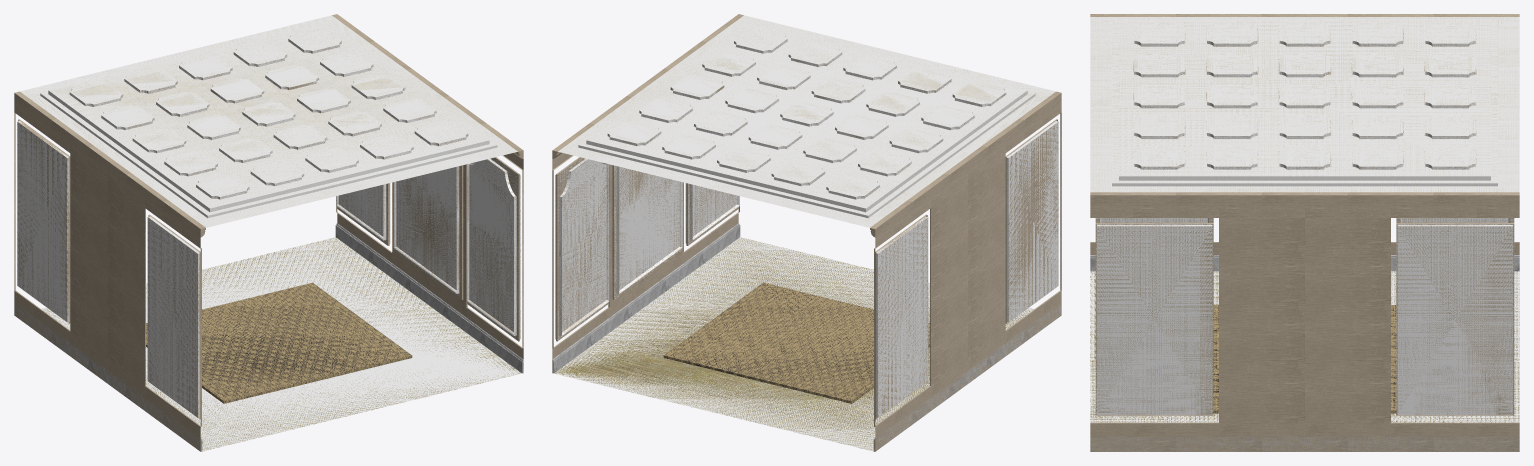
The picture shows the model from 3 angles, left to right: view 1: azimuth 30°, elevation 25°; view 2: azimuth 150°, elevation 25°; view 3: azimuth 270°, elevation 25°; orthographic projection. The views are drawn at different scales.
Parts seen in each view (by area): view 1: SketchUp.185, SketchUp.162, SketchUp.205, SketchUp.004, SketchUp.054, SketchUp.157, SketchUp.186, SketchUp.032, SketchUp.006, SketchUp.059, SketchUp.168, SketchUp.151 (+34 smaller); view 2: SketchUp.185, SketchUp.162, SketchUp.205, SketchUp.004, SketchUp.157, SketchUp.054, SketchUp.186, SketchUp.061, SketchUp.006, SketchUp.059, SketchUp.168, SketchUp.151 (+35 smaller); view 3: SketchUp.007, SketchUp.162, SketchUp.034, SketchUp.203, SketchUp.186, SketchUp.153, SketchUp.152, SketchUp.154, SketchUp.168, SketchUp.185, SketchUp.206, SketchUp.062 (+31 smaller).
Boxes of the visible parts, x1,y1,x2,y2 form: SketchUp.185: (41,237,521,451); SketchUp.162: (48,22,489,212); SketchUp.205: (146,282,412,403); SketchUp.004: (14,112,201,426); SketchUp.054: (147,216,199,417); SketchUp.157: (17,121,69,322); SketchUp.186: (20,15,517,227); SketchUp.032: (466,158,516,335); SketchUp.006: (393,166,459,293); SketchUp.059: (14,93,200,248); SketchUp.168: (40,22,497,218); SketchUp.151: (335,223,523,373); SketchUp.185: (554,237,1034,451); SketchUp.162: (586,22,1027,212); SketchUp.205: (663,282,929,403); SketchUp.004: (874,112,1061,426); SketchUp.157: (876,216,928,417); SketchUp.054: (1006,121,1058,322); SketchUp.186: (558,15,1055,227); SketchUp.061: (559,158,609,335); SketchUp.006: (616,166,682,293); SketchUp.059: (875,93,1061,248); SketchUp.168: (578,22,1035,218); SketchUp.151: (552,223,740,373); SketchUp.007: (1090,218,1519,423); SketchUp.162: (1119,19,1490,180); SketchUp.034: (1097,224,1212,415); SketchUp.203: (1397,224,1512,415); SketchUp.186: (1090,17,1519,192); SketchUp.153: (1090,195,1519,217); SketchUp.152: (1090,436,1519,451); SketchUp.154: (1090,423,1519,436); SketchUp.168: (1112,20,1497,186); SketchUp.185: (1090,271,1519,422); SketchUp.206: (1228,227,1381,414); SketchUp.062: (1090,192,1519,195).
Bounding box in the file's own units: 4.57 × 3.13 × 4.57.
8 materials, 7 textured.
